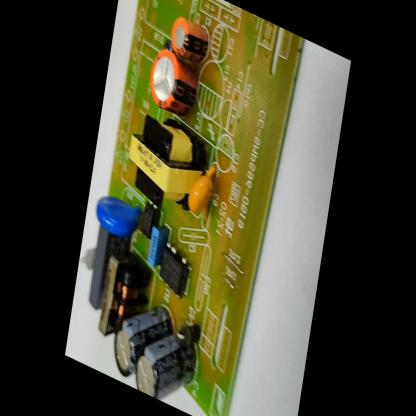Cap1: (144, 41, 204, 128)
Cap2: (166, 8, 215, 72)
Cap3: (110, 311, 142, 387)
Cap4: (131, 314, 200, 414)
MOSFET: (157, 237, 191, 303)
Mov: (93, 185, 143, 245)
Resistor: (79, 241, 97, 274)
Transformer: (125, 112, 201, 223), (96, 243, 131, 340)
